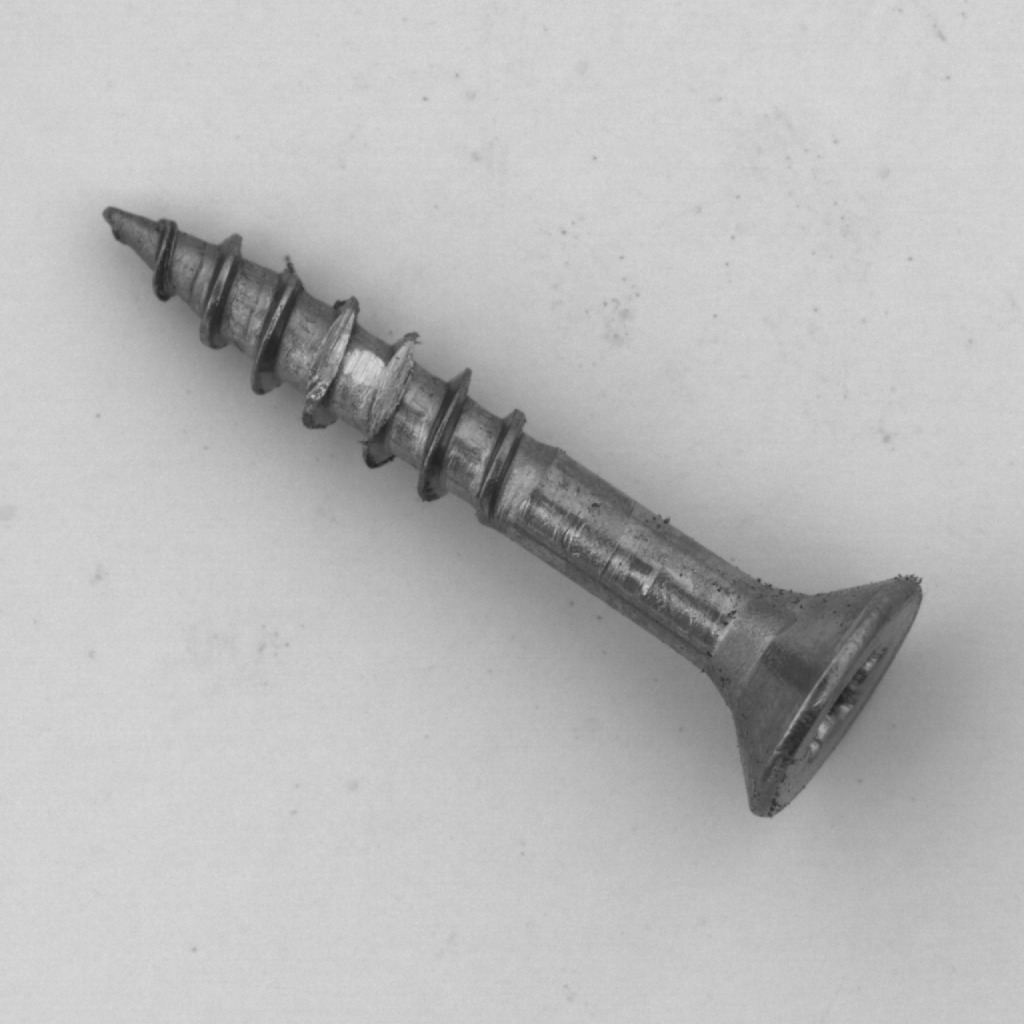thread_top: (230, 247, 483, 498)
